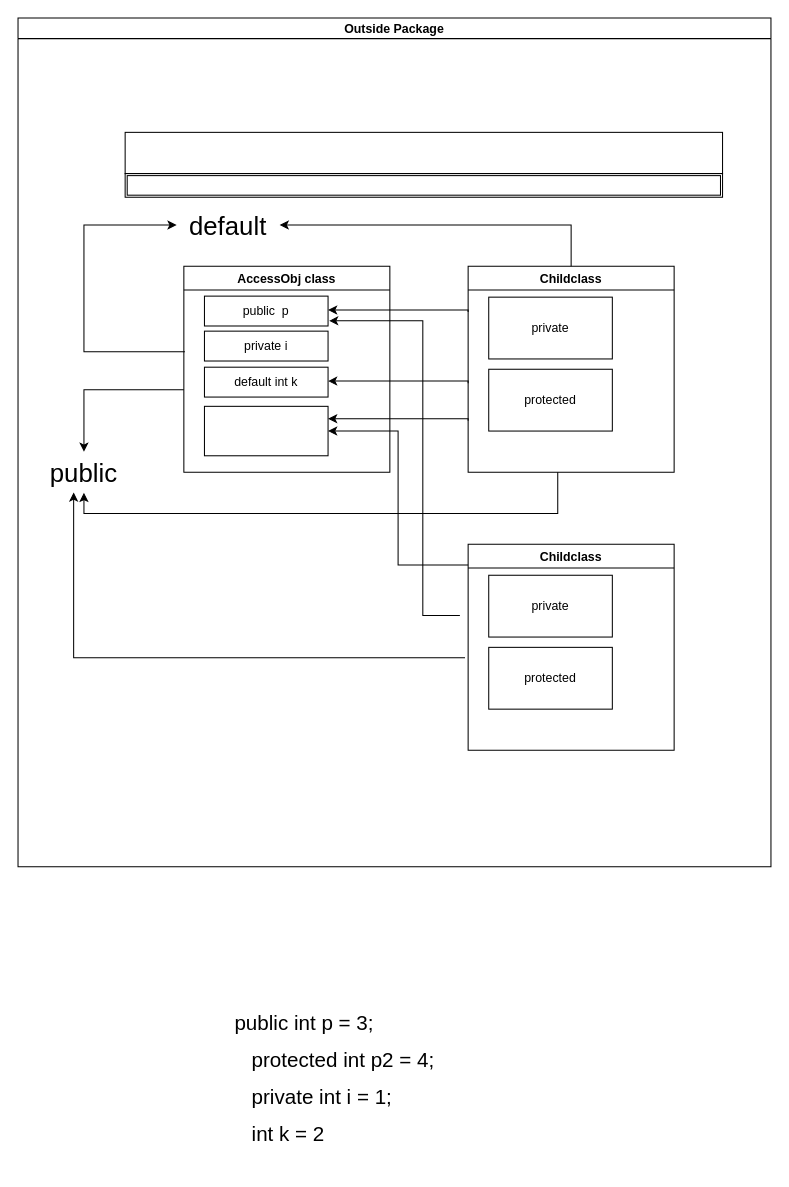
This 789x1187 diagram has some shape labels left out. Each missing label, with the centre of its shape:
Package: (x=423, y=152)
protected p2: (x=265, y=430)
